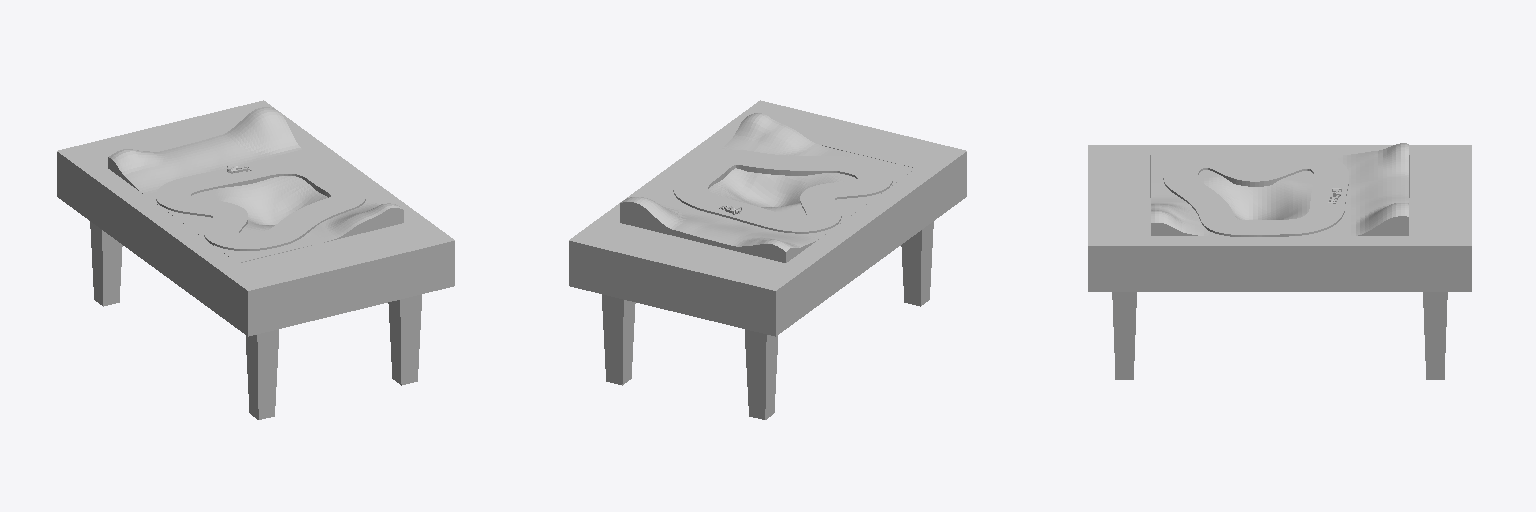
File: NewestTisch4.obj
The picture shows the model from 3 angles: view 1: azimuth 30°, elevation 25°; view 2: azimuth 150°, elevation 25°; view 3: azimuth 270°, elevation 25°; orthographic projection.
Visible parts, largest first — view 1: Tischplatte_wood_table_001, Landschaft_aerial_grass_rock, off, Bein1_wood_table_001, Bein4_wood_table_001.003, Bein3_wood_table_001.002; view 2: Tischplatte_wood_table_001, Landschaft_aerial_grass_rock, off, Bein2_wood_table_001.001, Bein3_wood_table_001.002, Bein4_wood_table_001.003; view 3: Tischplatte_wood_table_001, Landschaft_aerial_grass_rock, off, Bein1_wood_table_001, Bein2_wood_table_001.001.
Boxes of the visible parts, box(x1,y1,x2,y2) form: Tischplatte_wood_table_001: box(57, 100, 454, 336); Landschaft_aerial_grass_rock: box(108, 107, 403, 262); off: box(156, 159, 365, 250); Bein1_wood_table_001: box(388, 294, 421, 385); Bein4_wood_table_001.003: box(246, 329, 278, 419); Bein3_wood_table_001.002: box(90, 221, 122, 306); Tischplatte_wood_table_001: box(569, 100, 966, 336); Landschaft_aerial_grass_rock: box(620, 113, 915, 262); off: box(673, 150, 892, 233); Bein2_wood_table_001.001: box(602, 294, 635, 385); Bein3_wood_table_001.002: box(745, 329, 777, 419); Bein4_wood_table_001.003: box(901, 221, 933, 306); Tischplatte_wood_table_001: box(1088, 145, 1471, 291); Landschaft_aerial_grass_rock: box(1151, 143, 1408, 235); off: box(1163, 153, 1348, 236); Bein1_wood_table_001: box(1112, 292, 1136, 379); Bein2_wood_table_001.001: box(1423, 292, 1447, 379).
Size of the model in its own units: 5 by 3.91 by 8.